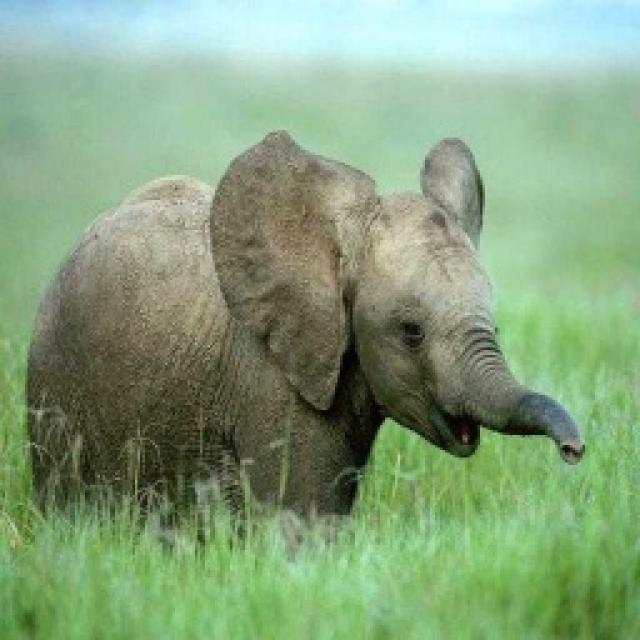not_pig: (23, 127, 585, 545)
